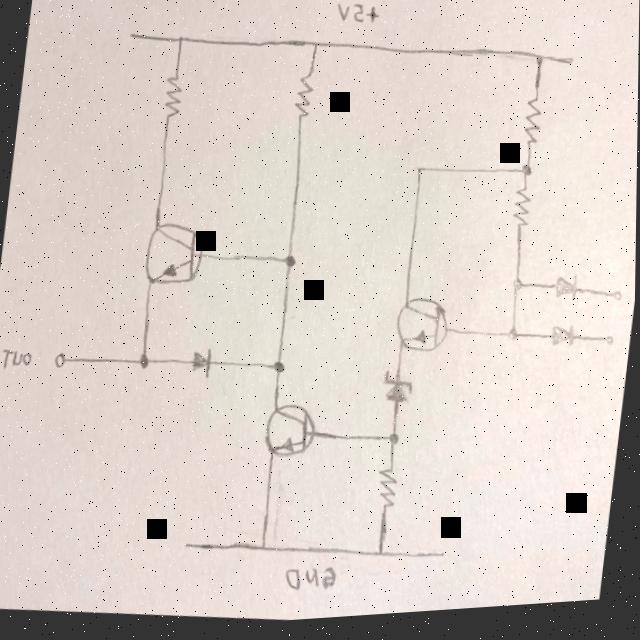diode: (377, 372, 422, 414), (183, 343, 224, 385), (549, 275, 586, 313), (546, 326, 581, 361)
junction: (264, 355, 293, 382), (130, 349, 157, 378), (380, 431, 407, 459), (368, 544, 394, 571), (502, 328, 528, 353), (506, 279, 532, 302), (279, 252, 302, 276), (515, 164, 538, 187), (410, 165, 432, 188), (254, 538, 276, 560), (529, 53, 551, 74), (309, 37, 327, 58), (173, 31, 191, 51)
resistor: (292, 71, 319, 133), (520, 96, 547, 157), (375, 468, 402, 521), (160, 73, 186, 125), (510, 190, 535, 241)
terminal: (175, 534, 208, 562), (427, 547, 456, 573), (51, 345, 74, 375), (558, 55, 584, 81), (120, 25, 145, 48), (609, 290, 629, 315), (600, 336, 620, 357)
text: (280, 562, 344, 603), (330, 0, 385, 36), (0, 344, 35, 375)
transistor: (137, 216, 214, 299), (257, 400, 325, 472), (388, 295, 457, 365)
